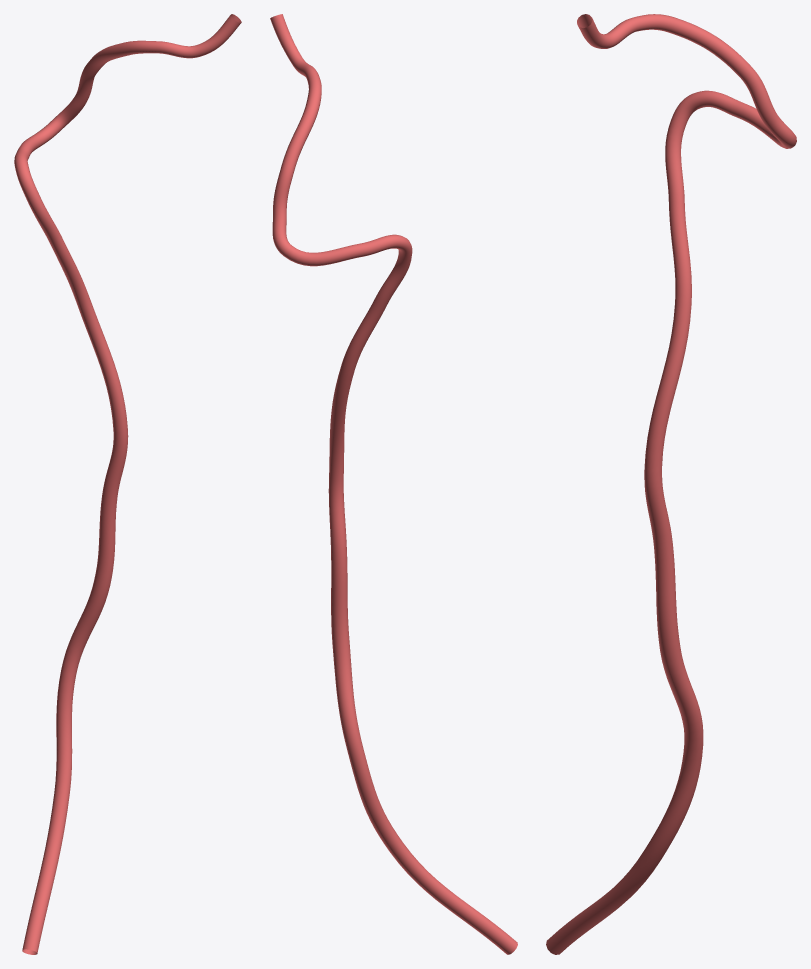
Rendered from Vertebral_artery.r_BezierCurve.176.glb.
3 renders of one model, left to right at view 1: azimuth 30°, elevation 25°; view 2: azimuth 150°, elevation 25°; view 3: azimuth 270°, elevation 25°, orthographic. The views are drawn at different scales.
Visible parts, largest first — view 1: Vertebral_artery.r_BezierCurve.176; view 2: Vertebral_artery.r_BezierCurve.176; view 3: Vertebral_artery.r_BezierCurve.176.
Part boxes in pixels (x1,y1,x2,y2): Vertebral_artery.r_BezierCurve.176: (14, 14, 241, 954); Vertebral_artery.r_BezierCurve.176: (270, 14, 517, 954); Vertebral_artery.r_BezierCurve.176: (546, 14, 796, 954).
Size of the model in its own units: 0.043 by 0.1573 by 0.0336.
